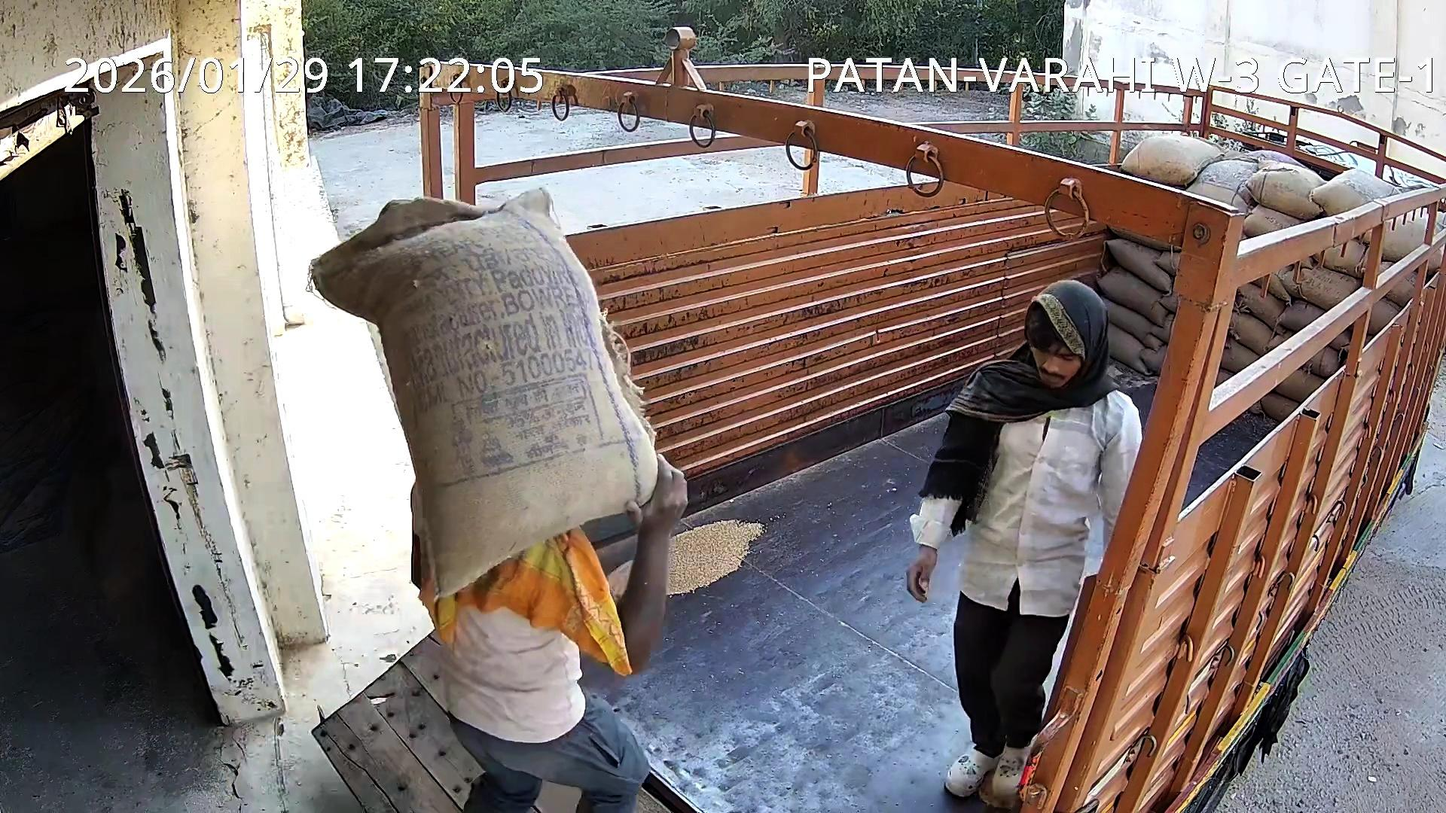Sack: (311, 189, 658, 597)
